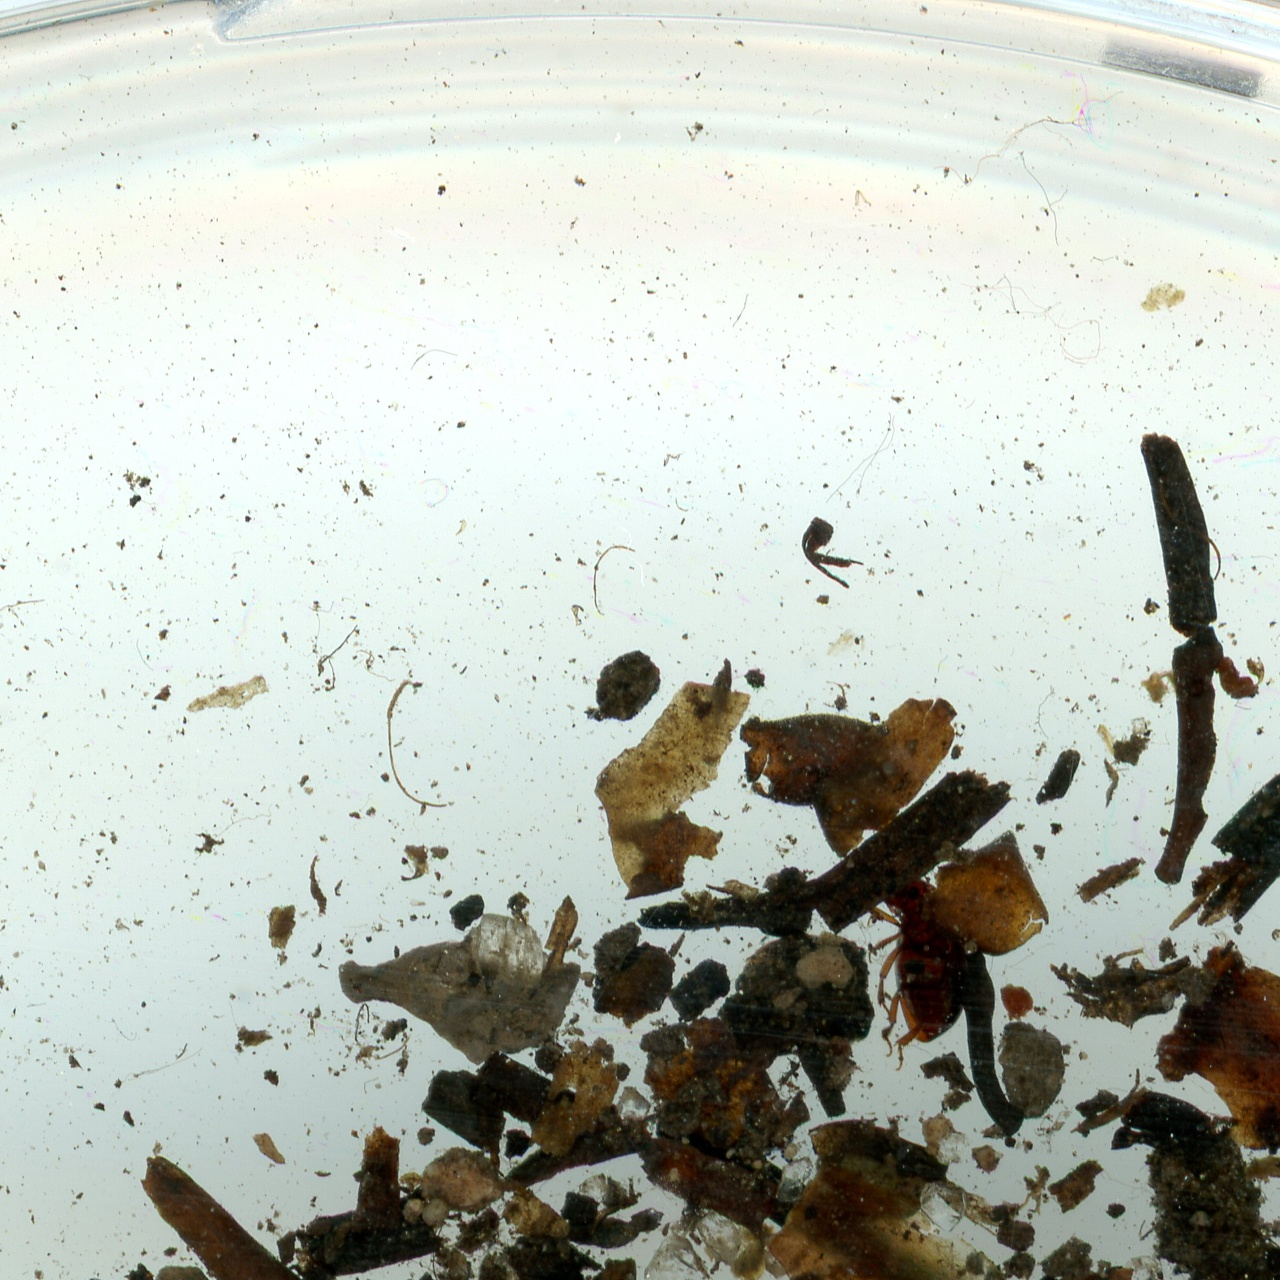arthropod: (864, 872, 967, 1078)
